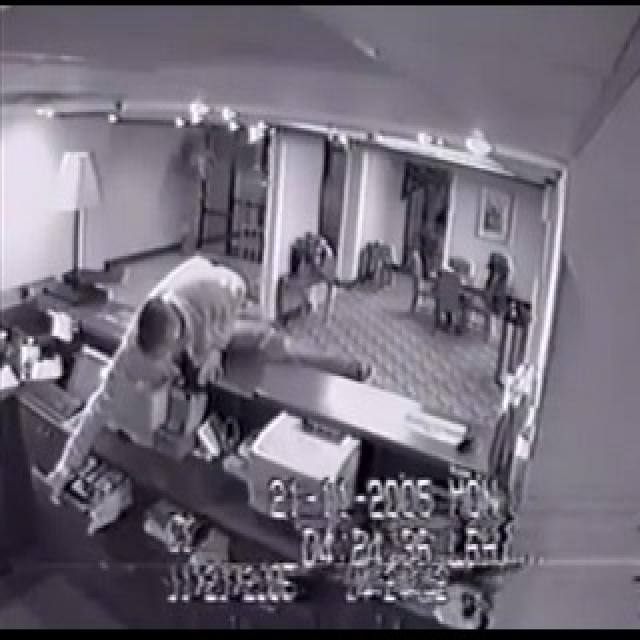thief: (34, 242, 278, 519)
